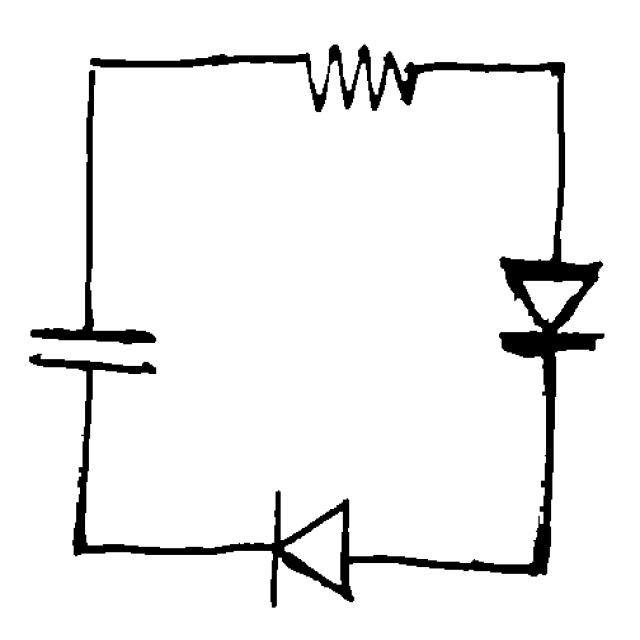diode: (488, 243, 615, 373), (254, 480, 365, 618), (16, 312, 172, 387)
resistor: (291, 36, 432, 120)
